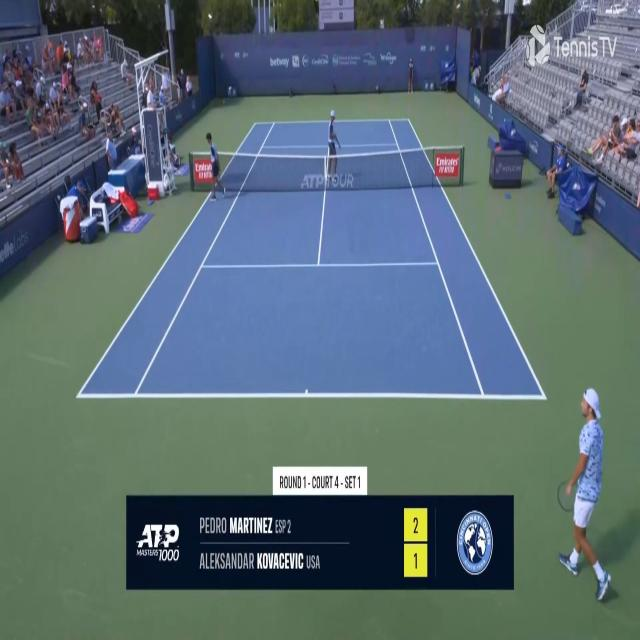tennis-player: (554, 384, 616, 612)
